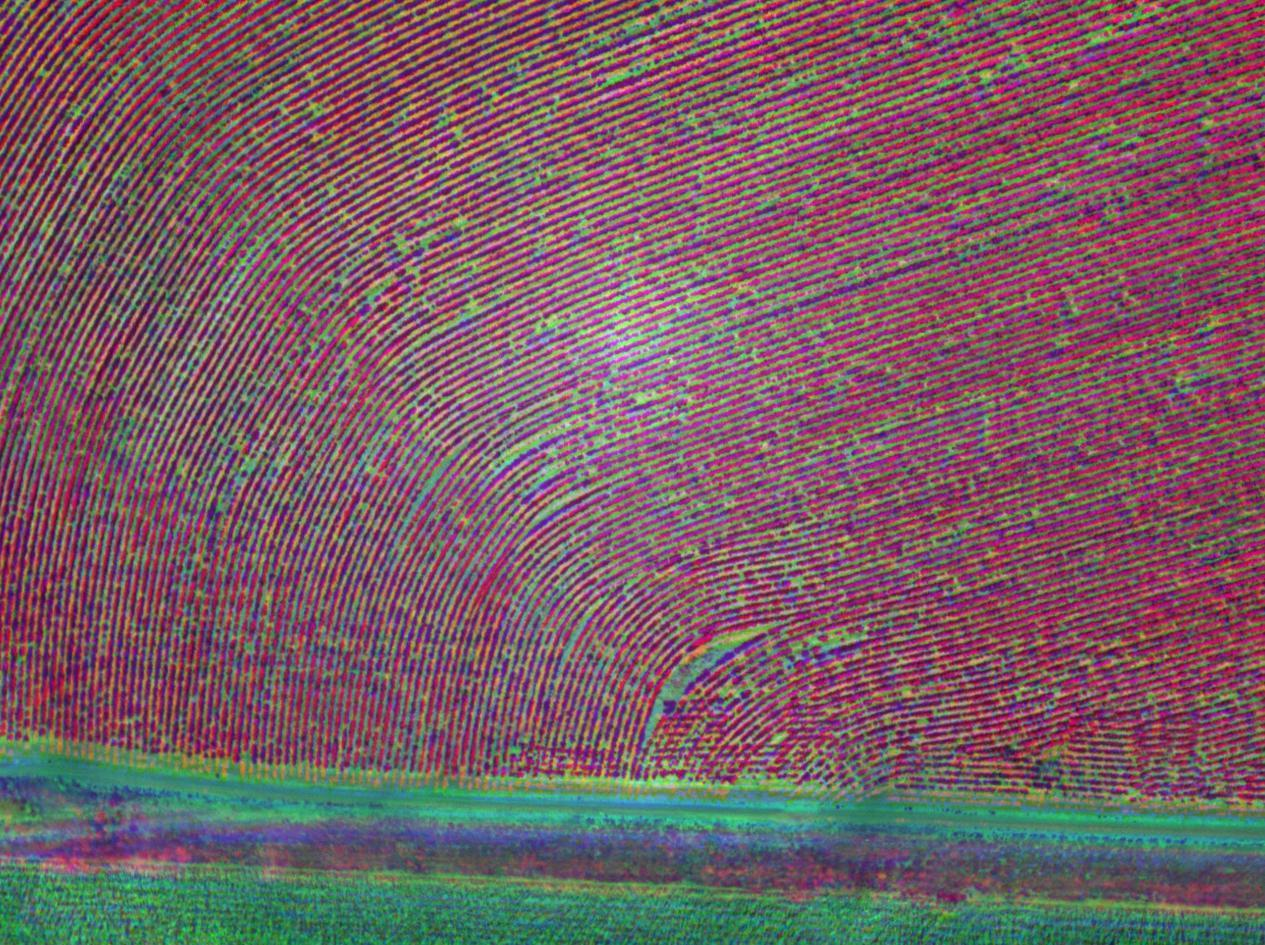dc: (96, 413, 260, 539), (456, 400, 581, 506), (611, 0, 718, 94), (91, 80, 181, 183), (593, 245, 688, 332), (668, 600, 748, 700)
